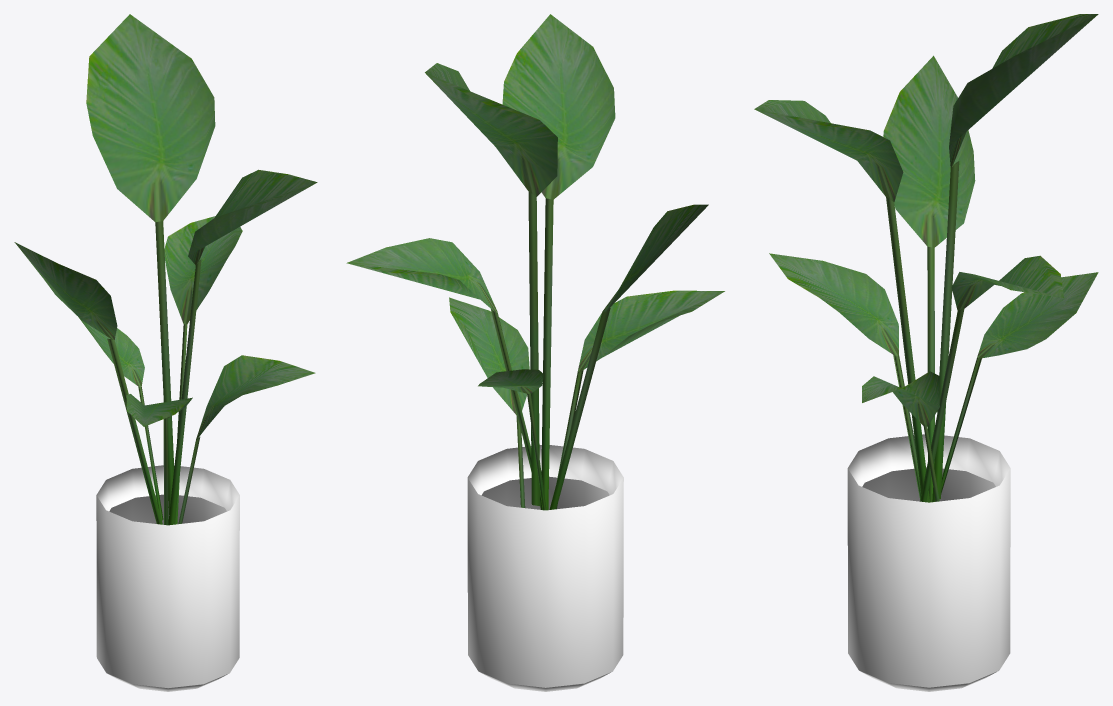
Rendered from 12plants.glb.
3 views of the same model, side by side, from view 1: azimuth 30°, elevation 25°; view 2: azimuth 150°, elevation 25°; view 3: azimuth 270°, elevation 25° (orthographic). The views are drawn at different scales.
Visible parts, largest first — view 1: plant; view 2: plant; view 3: plant.
Boxes of the visible parts, left/top/right/bottom form: plant: left=14, top=14, right=317, bottom=691; plant: left=346, top=14, right=724, bottom=691; plant: left=754, top=14, right=1098, bottom=691.
Size of the model in its own units: 0.5275 by 1.08 by 0.5026.
Materials: 1 (1 with a texture image).
